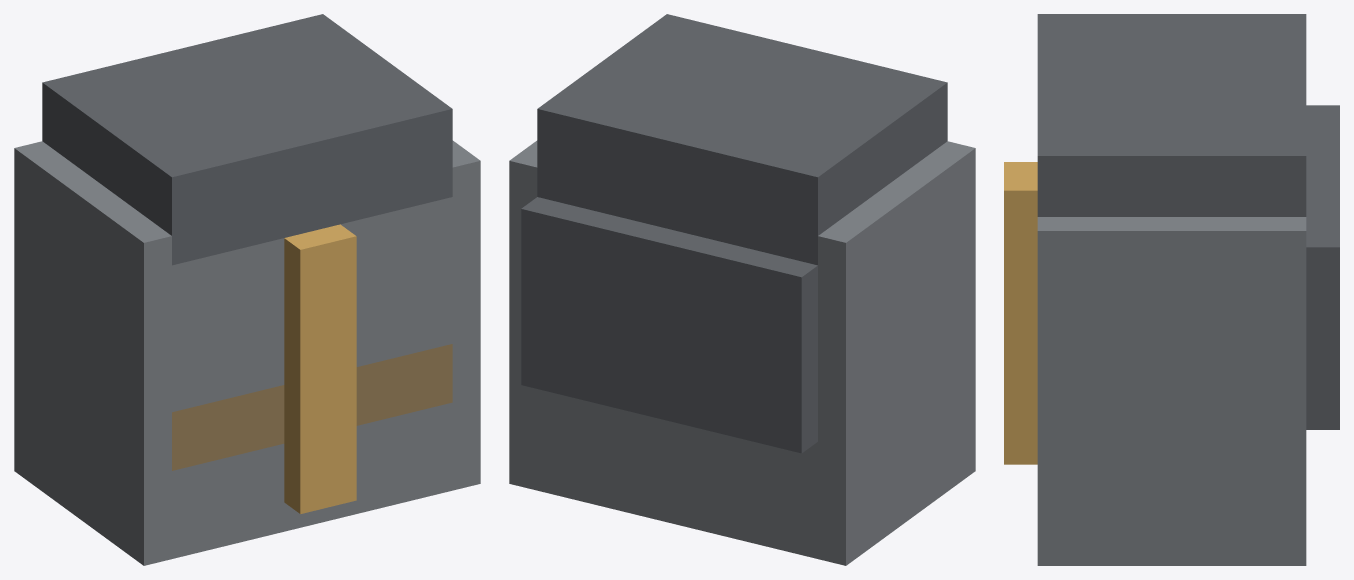
Rendered from torso.glb.
3 renders of one model, left to right at view 1: azimuth 30°, elevation 25°; view 2: azimuth 150°, elevation 25°; view 3: azimuth 270°, elevation 25°, orthographic. The views are drawn at different scales.
Size of the model in its own units: 12 by 13 by 10.
